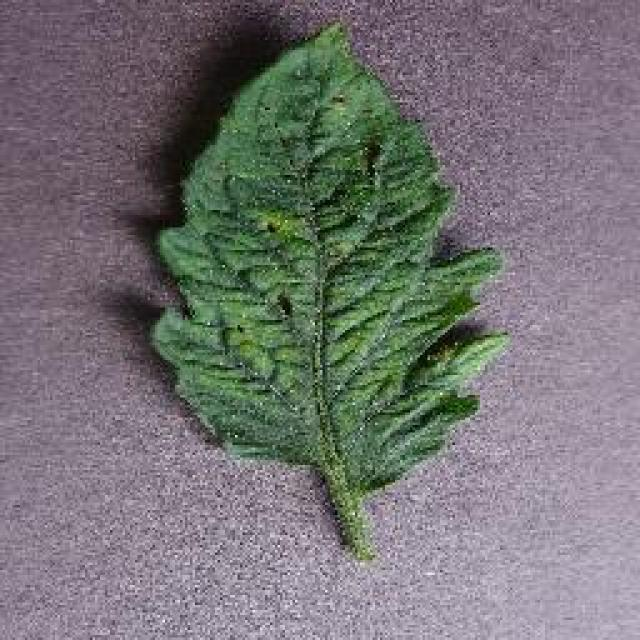Tomato mosaic virus leaf: (150, 15, 510, 490)
